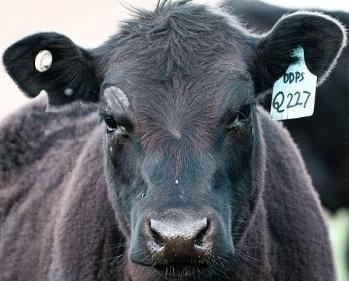muzzles: (126, 206, 235, 281)
